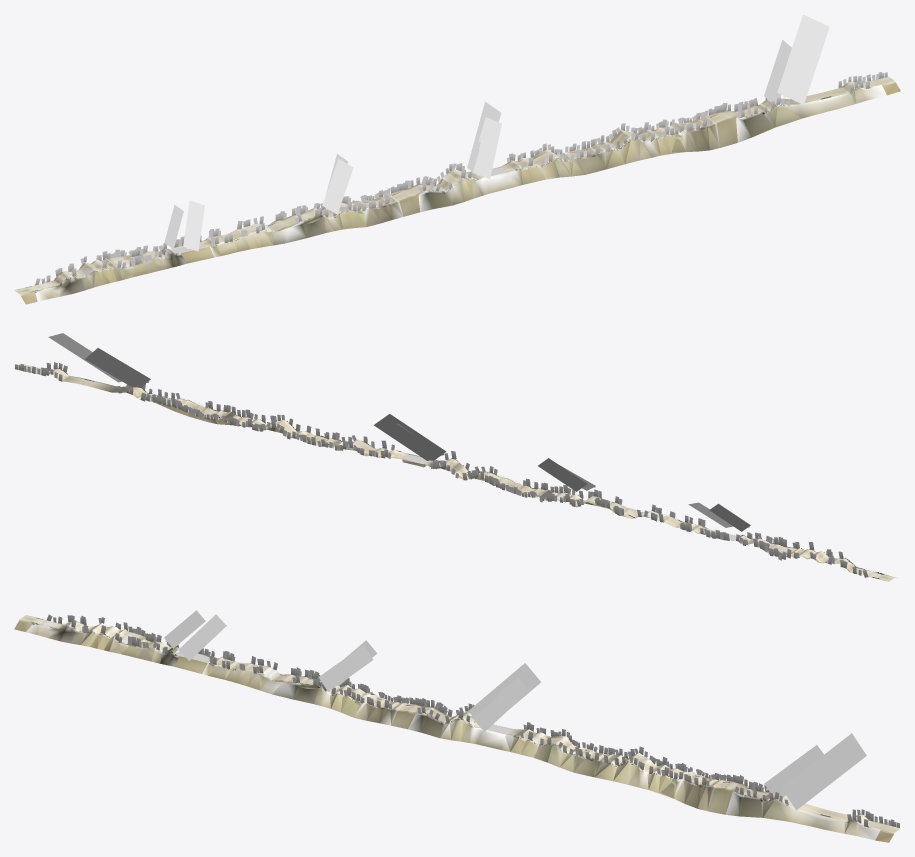
File: Beach_15.fbx
3 views of the same model, one above another, from view 1: azimuth 30°, elevation 25°; view 2: azimuth 150°, elevation 25°; view 3: azimuth 330°, elevation 25° (orthographic).
Visible parts, largest first — view 1: Mountain_01, Light_01, Tree_01, Ground_01, Road_01; view 2: Tree_01, Light_01, Ground_01, Road_01; view 3: Mountain_01, Light_01, Tree_01, Road_01, Ground_01.
Part boxes in pixels (x1,y1,x2,y2): Mountain_01: (35,85,886,301); Light_01: (164,14,829,251); Tree_01: (34,72,887,292); Ground_01: (15,77,894,294); Road_01: (14,77,900,304); Tree_01: (15,362,882,577); Light_01: (48,333,750,531); Ground_01: (18,364,894,581); Road_01: (14,364,896,581); Mountain_01: (26,623,880,840); Light_01: (164,610,866,810); Tree_01: (32,614,899,827); Road_01: (14,615,900,842); Ground_01: (20,615,899,832).
Size of the model in its own units: 113055 by 10324 by 6968.
